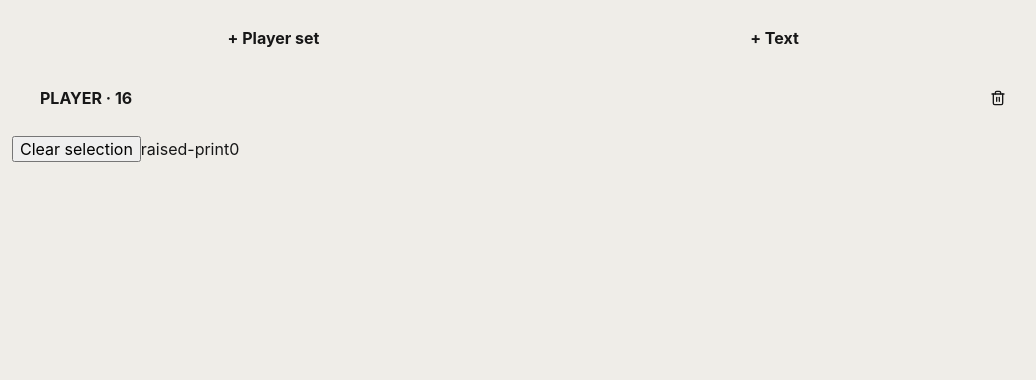
Scenario: PersonalizePanel › adds a player set and keeps raised-print pricing selected
Step 1. Click the button with aria-label "Add player set" → (274, 38), box top-left (28, 16), bottom-right (519, 60)
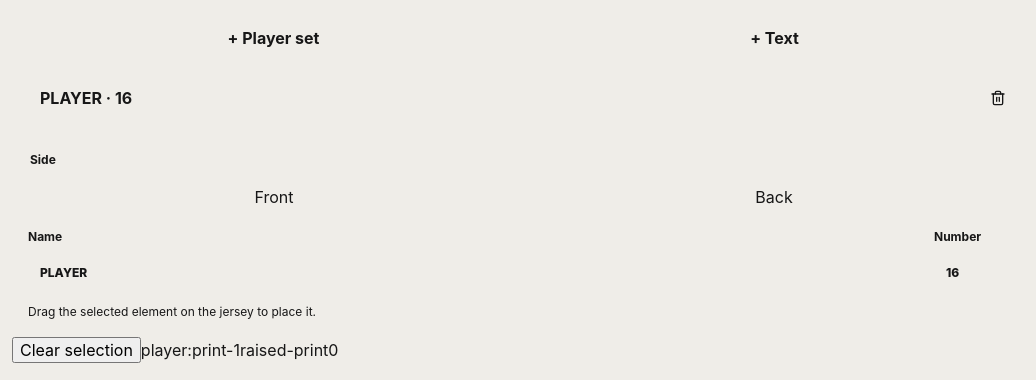
Expected: the text with test id "selected-key" reads "player:print-1", top-left (141, 340), bottom-right (240, 360)
Expected: the field labelled "Name" holds "PLAYER", top-left (28, 250), bottom-right (924, 294)
Expected: the field labelled "Number" holds "16", top-left (934, 250), bottom-right (1020, 294)
